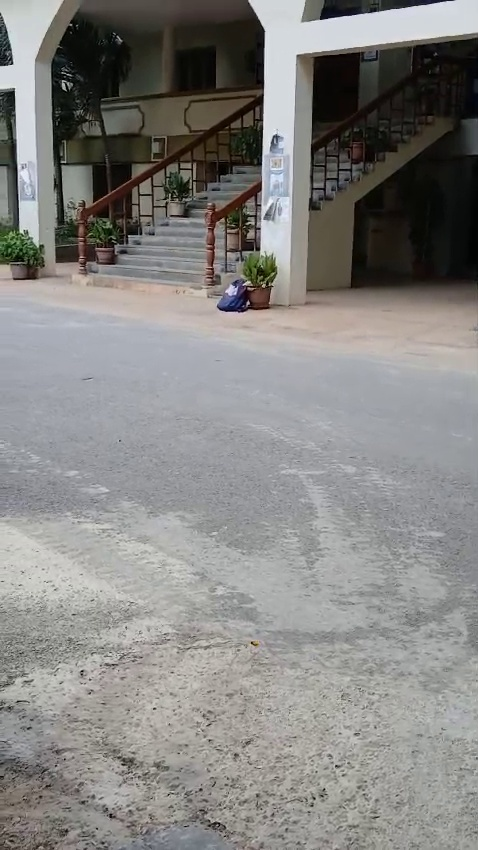bag: (216, 272, 254, 322)
